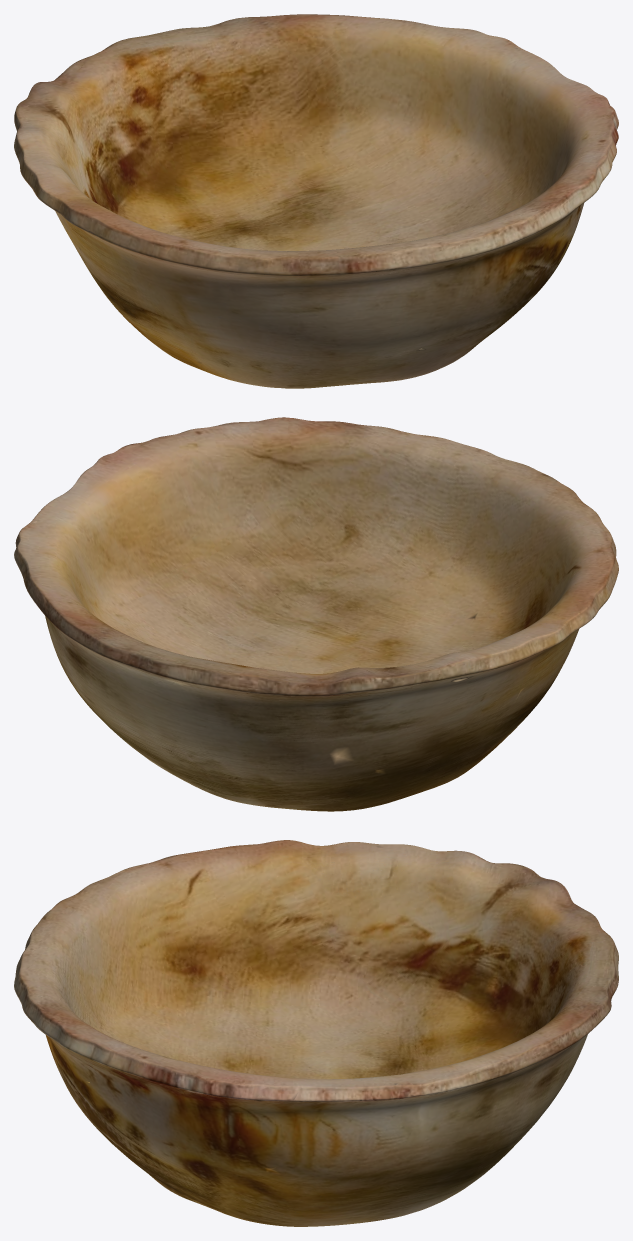
Rendered from sink-new-series.glb.
The picture shows the model from 3 angles, top to bottom: view 1: azimuth 30°, elevation 25°; view 2: azimuth 150°, elevation 25°; view 3: azimuth 270°, elevation 25°; orthographic projection.
Parts seen in each view (by area): view 1: node_0; view 2: node_0; view 3: node_0.
Part boxes in pixels (bbox=[...]): node_0: bbox=[14, 14, 618, 388]; node_0: bbox=[14, 417, 618, 811]; node_0: bbox=[14, 840, 618, 1226].
Bounding box in the file's own units: 1.11 × 0.403 × 1.11.
Materials: 1 (1 with a texture image).
